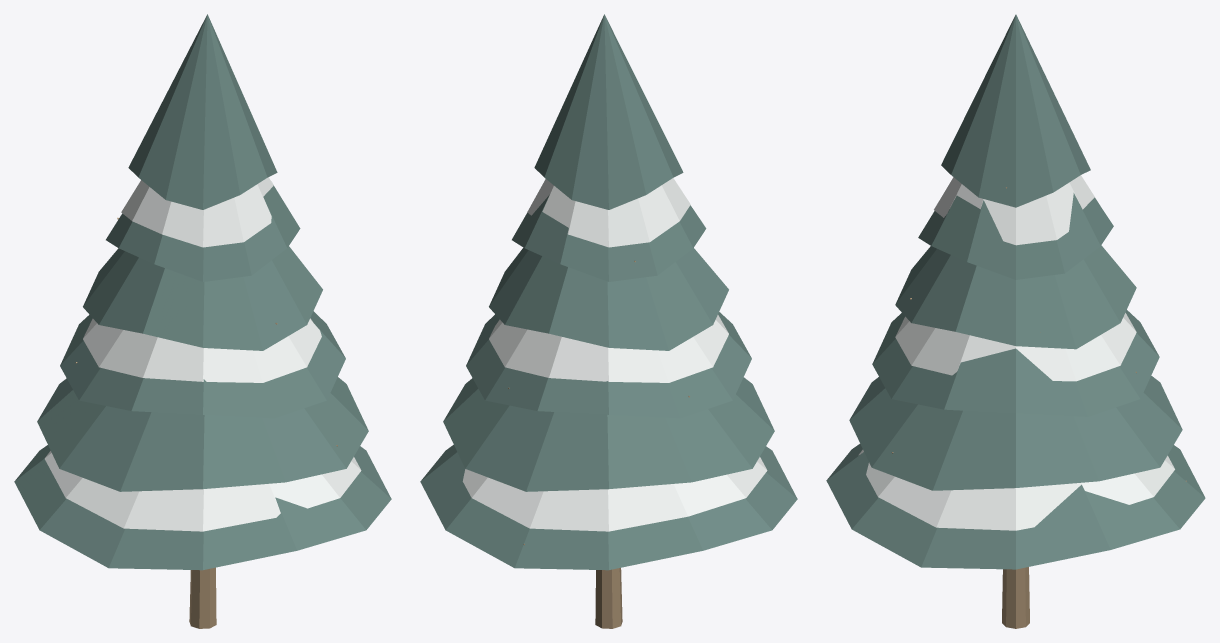
File: snow-fir-0.glb
3 renders of one model, left to right at view 1: azimuth 30°, elevation 25°; view 2: azimuth 150°, elevation 25°; view 3: azimuth 270°, elevation 25°, orthographic.
Size of the model in its own units: 8.6 by 15.29 by 8.6.
